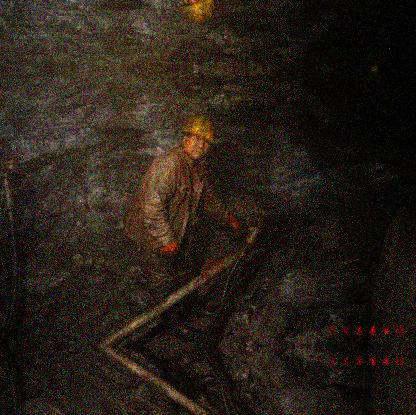helmet: (177, 115, 218, 165)
